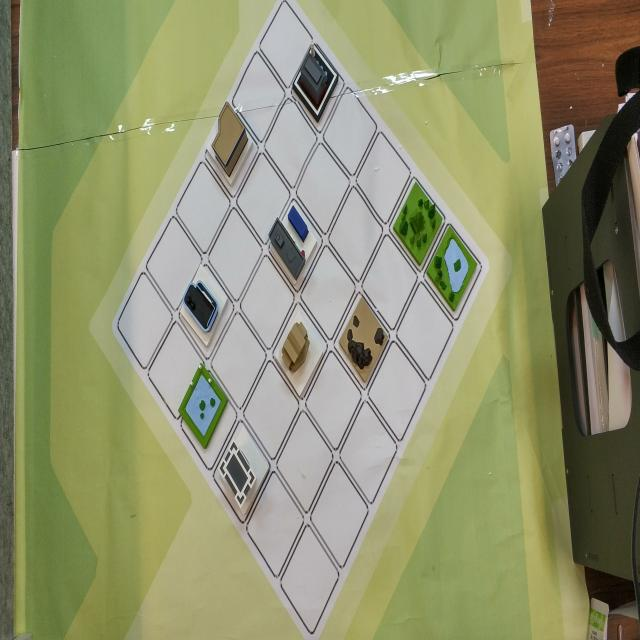bus_stop: (264, 193, 320, 287)
factory: (286, 31, 348, 131)
fish_pool: (173, 361, 231, 456)
forest: (390, 169, 445, 274)
gogo_shop: (175, 264, 231, 346)
research_build: (210, 417, 272, 526)
restaurant: (202, 91, 256, 193)
silicate_rock: (332, 286, 398, 388)
volunteer_center: (270, 292, 330, 404)
wet_land: (426, 217, 479, 317)
